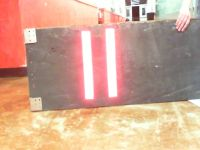switch: (80, 30, 94, 100), (105, 28, 117, 98)
